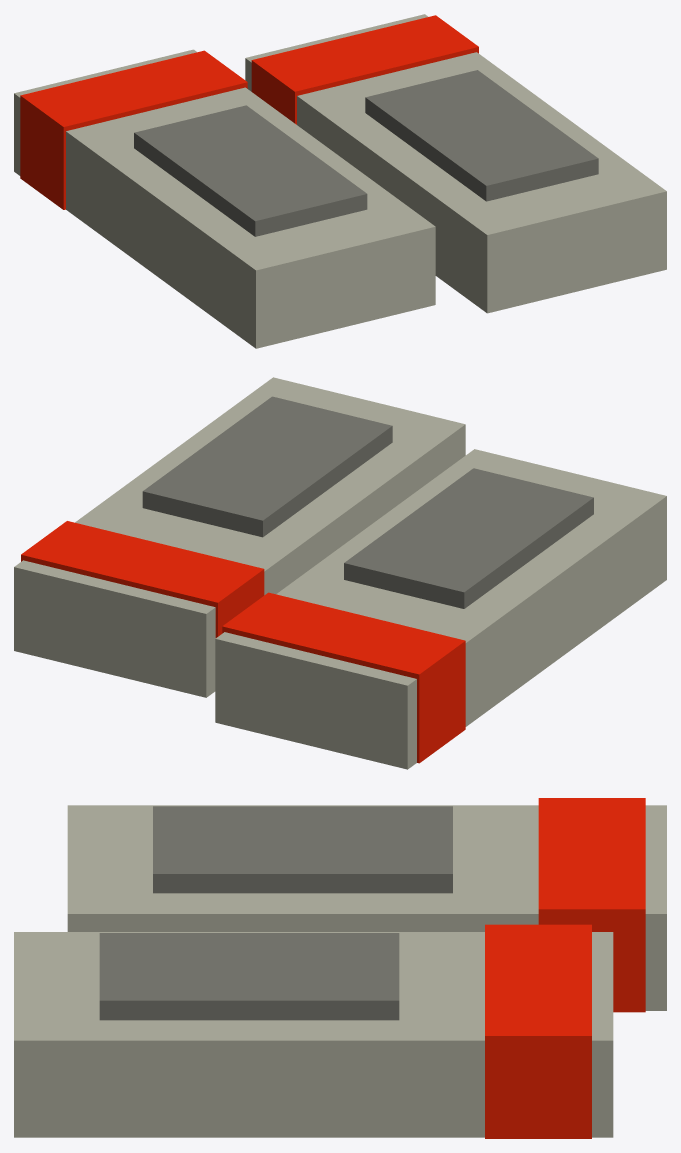
File: ce_ammo_chmag_conc_b.obj
3 renders of one model, top to bottom at view 1: azimuth 30°, elevation 25°; view 2: azimuth 150°, elevation 25°; view 3: azimuth 270°, elevation 25°, orthographic. The views are drawn at different scales.
Visible parts, largest first — view 1: ce_ammo_chmag_conc_b_0, ce_ammo_chmag_conc_b_3, ce_ammo_chmag_conc_b_2, ce_ammo_chmag_conc_b_5, ce_ammo_chmag_conc_b_1, ce_ammo_chmag_conc_b_4; view 2: ce_ammo_chmag_conc_b_0, ce_ammo_chmag_conc_b_3, ce_ammo_chmag_conc_b_5, ce_ammo_chmag_conc_b_2, ce_ammo_chmag_conc_b_1, ce_ammo_chmag_conc_b_4; view 3: ce_ammo_chmag_conc_b_3, ce_ammo_chmag_conc_b_0, ce_ammo_chmag_conc_b_5, ce_ammo_chmag_conc_b_2, ce_ammo_chmag_conc_b_4, ce_ammo_chmag_conc_b_1.
Boxes of the visible parts, left/top/right/bottom form: ce_ammo_chmag_conc_b_0: left=14, top=49, right=435, bottom=348; ce_ammo_chmag_conc_b_3: left=245, top=14, right=666, bottom=313; ce_ammo_chmag_conc_b_2: left=134, top=105, right=367, bottom=236; ce_ammo_chmag_conc_b_5: left=365, top=70, right=598, bottom=201; ce_ammo_chmag_conc_b_1: left=20, top=50, right=247, bottom=209; ce_ammo_chmag_conc_b_4: left=251, top=15, right=478, bottom=124; ce_ammo_chmag_conc_b_0: left=215, top=449, right=666, bottom=769; ce_ammo_chmag_conc_b_3: left=14, top=377, right=465, bottom=697; ce_ammo_chmag_conc_b_5: left=142, top=396, right=392, bottom=537; ce_ammo_chmag_conc_b_2: left=344, top=468, right=593, bottom=608; ce_ammo_chmag_conc_b_1: left=222, top=592, right=465, bottom=763; ce_ammo_chmag_conc_b_4: left=21, top=521, right=264, bottom=637; ce_ammo_chmag_conc_b_3: left=14, top=932, right=613, bottom=1137; ce_ammo_chmag_conc_b_0: left=67, top=805, right=666, bottom=1010; ce_ammo_chmag_conc_b_5: left=99, top=933, right=399, bottom=1020; ce_ammo_chmag_conc_b_2: left=153, top=806, right=452, bottom=893; ce_ammo_chmag_conc_b_4: left=485, top=924, right=591, bottom=1138; ce_ammo_chmag_conc_b_1: left=538, top=798, right=645, bottom=1012.
Size of the model in its own units: 0.526 by 0.12 by 0.61.
